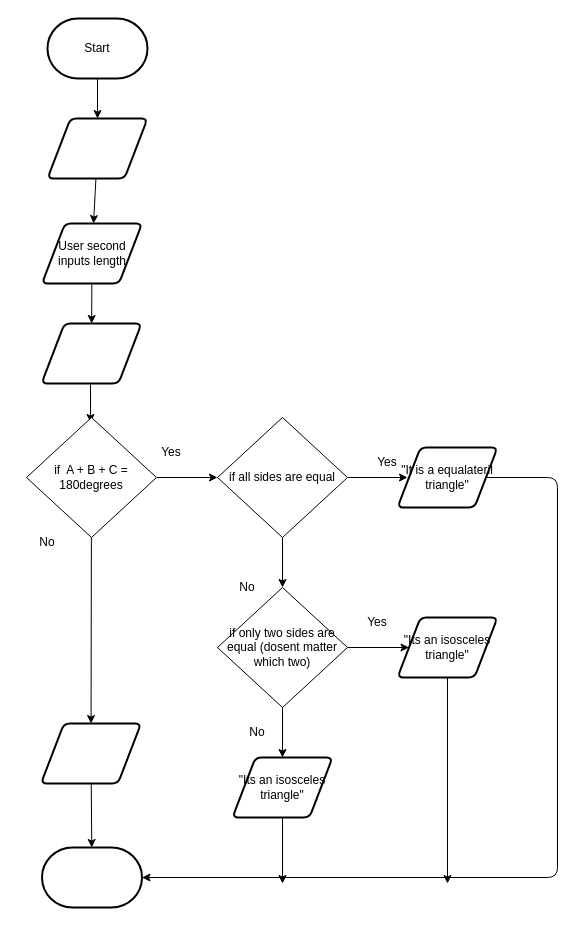
The diagram is 583 pixels wide and 925 high, and some of its shapes have lost their labels. Here are the shapes that lost their labels. From the top down, the centre of each, then its label:
(x=97, y=148): User first inputs length
(x=91, y=353): User third inputs length
(x=91, y=753): "not a triangle"
(x=91, y=877): Stop
